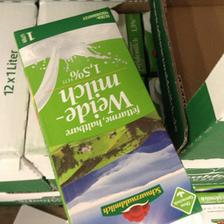Milch: (9, 5, 201, 223)
